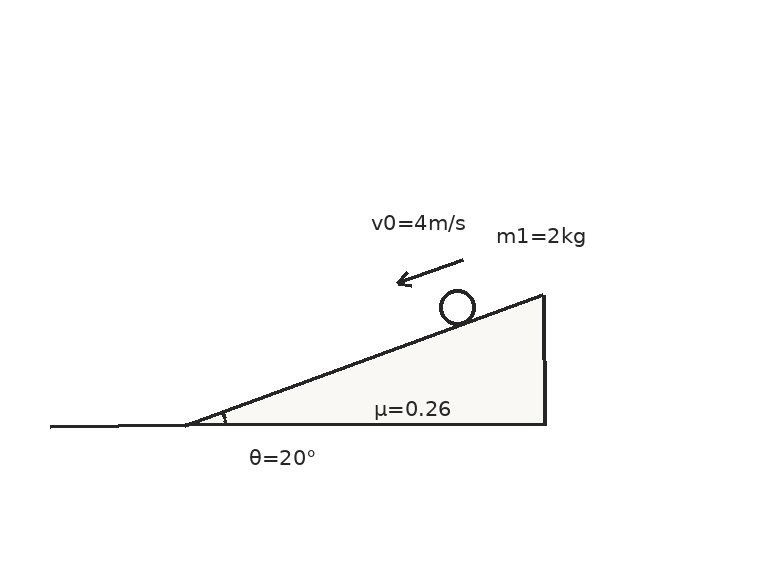ball: (437, 287, 477, 327)
ramp: (183, 292, 546, 427)
